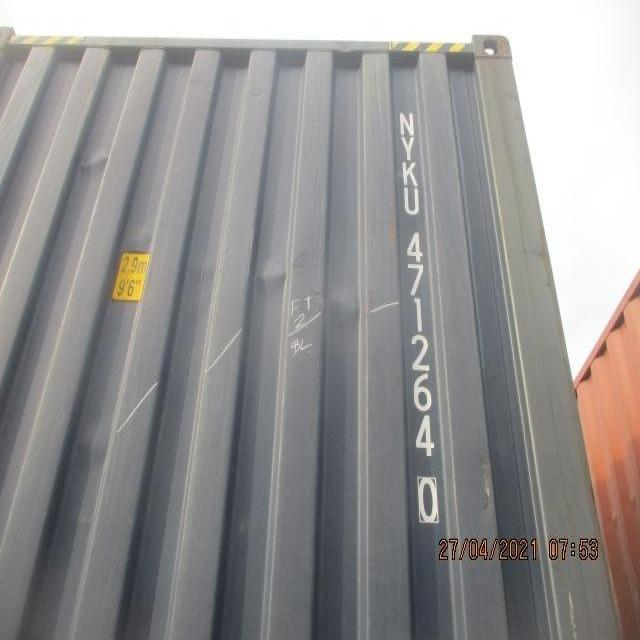dent: (211, 245, 371, 341), (63, 417, 116, 474), (74, 141, 116, 184)
